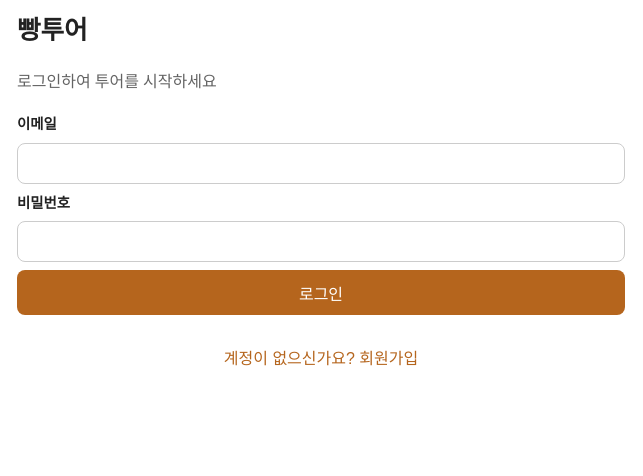
Scenario: Login signup display name + feedback (Feature 1 + 2) › shows the display-name field only in signup mode
Expected: the field labelled "이름" is not shown
Click the button "계정이 없으신가요? 회원가입" at coordinates (321, 357), box [17,335,625,379]
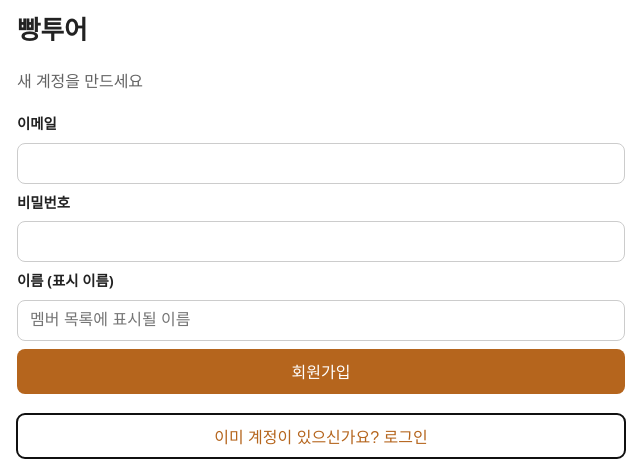
Now the field labelled "이름 (표시 이름)" is shown, box [17,300,625,341]
